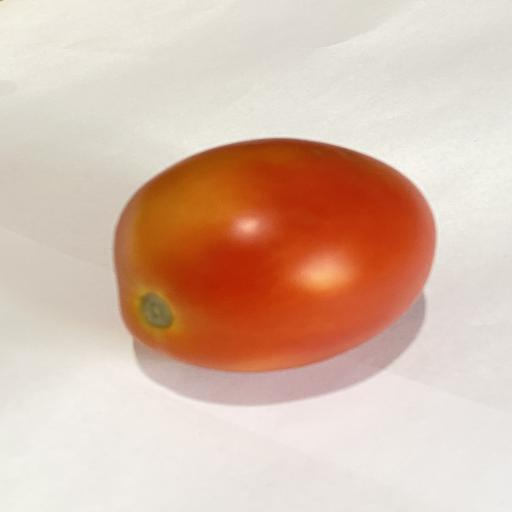ripe: (114, 139, 435, 371)
